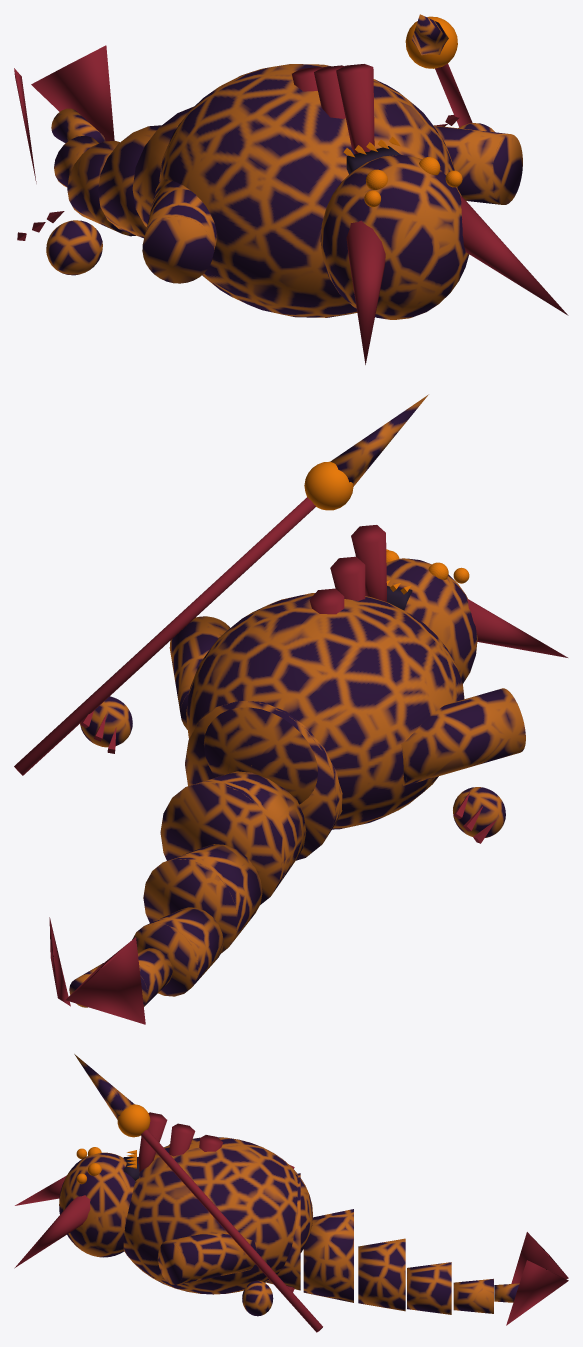
The model's file is 02_kullullu_boss.obj.
The picture shows the model from 3 angles, top to bottom: view 1: azimuth 30°, elevation 25°; view 2: azimuth 150°, elevation 25°; view 3: azimuth 270°, elevation 25°; orthographic projection. The views are drawn at different scales.
Parts seen in each view (by area): view 1: Sphere, Sphere.003, Cylinder.001, Cylinder, Cone.024, Cone.020, Cone.006, Cone.005, Cone.007, Sphere.009, Cone.021, Cone.019 (+9 smaller); view 2: Sphere, Cone.019, Cylinder.001, Cone.020, Cylinder.002, Sphere.003, Cone.018, Cone.021, Cone.025, Cylinder, Cone.026, Cone.007 (+6 smaller); view 3: Sphere, Sphere.003, Cone.019, Cylinder, Cone.020, Cylinder.002, Cone.021, Cone.024, Cone.005, Cone.022, Cone.018, Cone.025 (+7 smaller).
Boxes of the visible parts, x1=… form: Sphere: x1=160, y1=64, x2=457, y2=317; Sphere.003: x1=320, y1=155, x2=469, y2=319; Cylinder.001: x1=142, y1=179, x2=216, y2=283; Cylinder: x1=433, y1=125, x2=522, y2=204; Cone.024: x1=31, y1=45, x2=114, y2=141; Cone.020: x1=98, y1=125, x2=161, y2=238; Cone.006: x1=346, y1=220, x2=385, y2=364; Cone.005: x1=460, y1=196, x2=568, y2=315; Cone.007: x1=336, y1=64, x2=374, y2=153; Sphere.009: x1=46, y1=220, x2=102, y2=275; Cone.021: x1=67, y1=140, x2=135, y2=236; Cone.019: x1=132, y1=106, x2=193, y2=227; Sphere: x1=186, y1=593, x2=464, y2=829; Cone.019: x1=160, y1=771, x2=306, y2=904; Cylinder.001: x1=401, y1=688, x2=525, y2=786; Cone.020: x1=143, y1=844, x2=262, y2=953; Cylinder.002: x1=14, y1=497, x2=315, y2=775; Sphere.003: x1=386, y1=558, x2=477, y2=683; Cone.018: x1=185, y1=700, x2=342, y2=860; Cone.021: x1=132, y1=907, x2=223, y2=996; Cone.025: x1=65, y1=937, x2=145, y2=1024; Cylinder: x1=169, y1=616, x2=229, y2=729; Cone.026: x1=330, y1=394, x2=428, y2=486; Cone.007: x1=351, y1=525, x2=386, y2=601; Sphere: x1=123, y1=1137, x2=312, y2=1294; Sphere.003: x1=59, y1=1152, x2=135, y2=1257; Cone.019: x1=303, y1=1209, x2=353, y2=1302; Cylinder: x1=158, y1=1233, x2=256, y2=1284; Cone.020: x1=358, y1=1238, x2=405, y2=1311; Cylinder.002: x1=141, y1=1129, x2=322, y2=1332; Cone.021: x1=407, y1=1262, x2=451, y2=1314; Cone.024: x1=506, y1=1260, x2=568, y2=1325; Cone.005: x1=14, y1=1195, x2=90, y2=1268; Cone.022: x1=453, y1=1278, x2=493, y2=1313; Cone.018: x1=266, y1=1173, x2=300, y2=1290; Cone.025: x1=511, y1=1232, x2=568, y2=1283.
Size of the model in its own units: 5.92 by 4.93 by 9.38.
43 materials, 43 textured.
